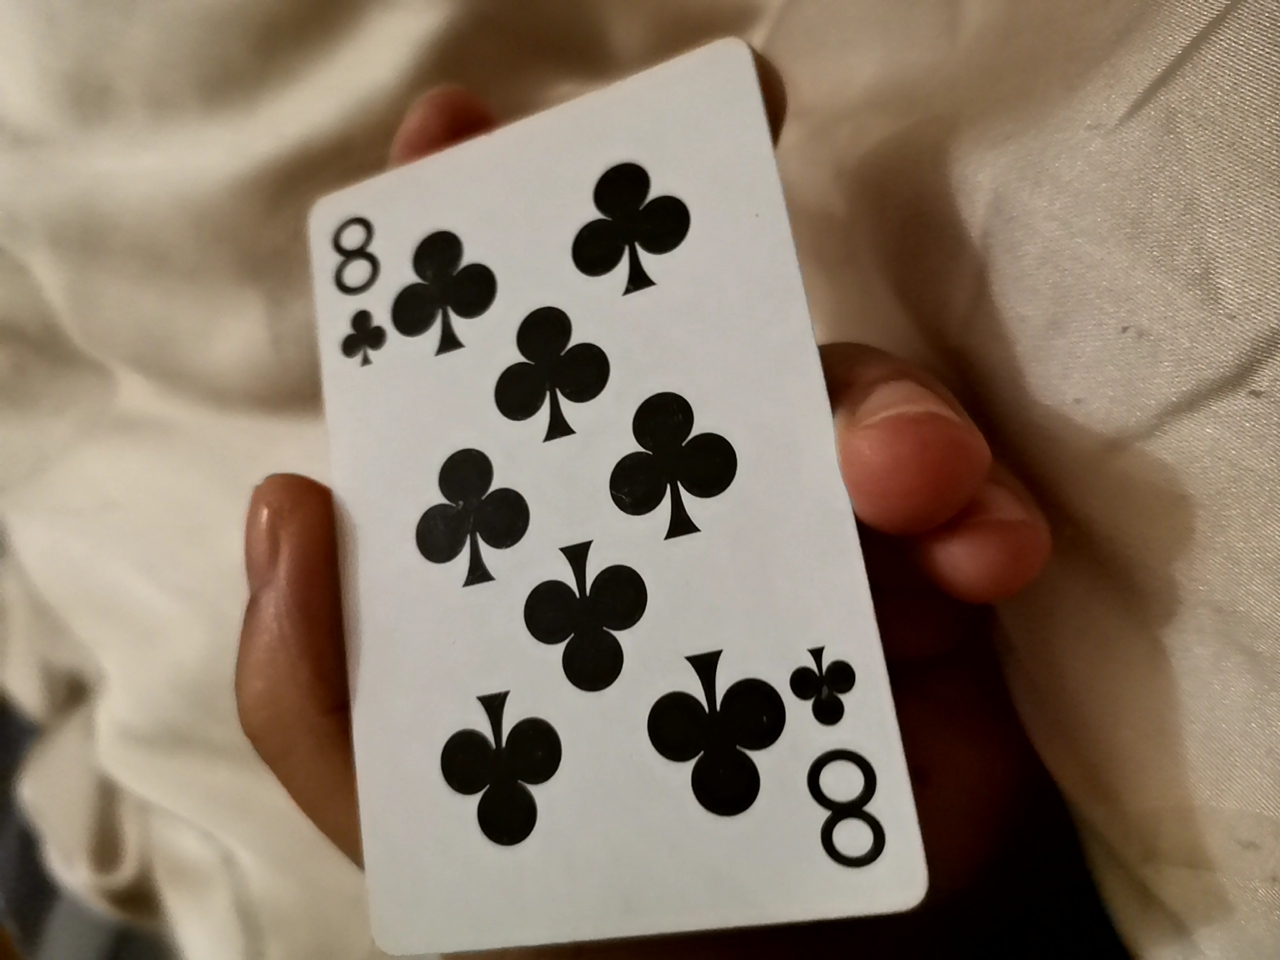mh 8: (294, 38, 913, 947)
